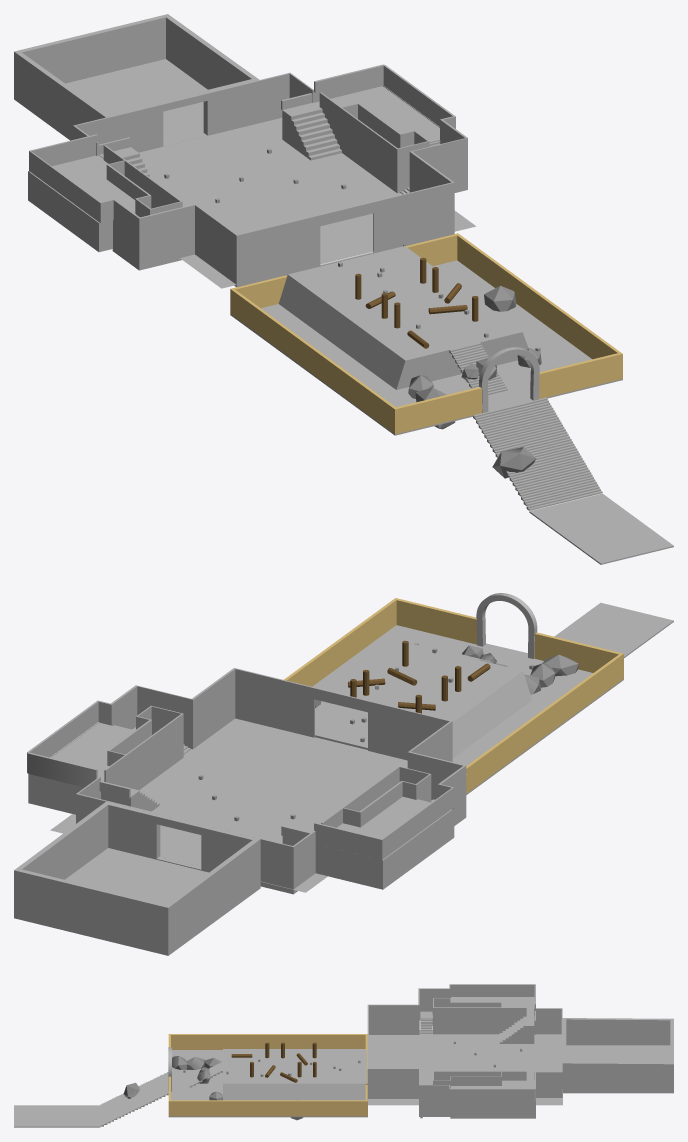
Rendered from lvl3_blockout.fbx.
The picture shows the model from 3 angles, top to bottom: view 1: azimuth 30°, elevation 25°; view 2: azimuth 150°, elevation 25°; view 3: azimuth 270°, elevation 25°; orthographic projection. The views are drawn at different scales.
Visible parts, largest first — view 1: Walls_Second_Area, Floor, Last_Room, Floor_Second_Area_Up, Walls_First_Area, Walls, Stairs, Floor_Second_Area, Floor_First_Area, Floor_L, Floor_R, Stair_1 (+2 smaller); view 2: Last_Room, Walls_Second_Area, Floor, Floor_Second_Area_Up, Walls_First_Area, Walls, Floor_Second_Area, Floor_L, Floor_R, Floor_First_Area, Arch, Stair_1; view 3: Last_Room, Floor, Walls_Second_Area, Floor_Second_Area_Up, Walls_First_Area, Walls, Floor_Second_Area, Stairs, Floor_First_Area, Floor_R, Floor_L, Stair_2.
Part boxes in pixels (x1,y1,x2,y2): Walls_Second_Area: (29,64,467,287); Floor: (139,118,476,288); Last_Room: (14,14,259,145); Floor_Second_Area_Up: (278,246,528,389); Walls_First_Area: (230,233,622,434); Walls: (73,72,429,217); Stairs: (400,141,602,510); Floor_Second_Area: (230,260,622,435); Floor_First_Area: (529,493,673,564); Floor_L: (28,155,135,252); Floor_R: (315,86,440,148); Stair_1: (282,102,341,160); Last_Room: (14,801,260,955); Walls_Second_Area: (27,668,466,859); Floor: (50,718,466,892); Floor_Second_Area_Up: (315,643,531,758); Walls_First_Area: (284,598,623,793); Walls: (76,705,431,894); Floor_Second_Area: (312,625,623,794); Floor_L: (315,796,454,889); Floor_R: (28,722,134,814); Floor_First_Area: (554,602,673,657); Arch: (476,593,537,659); Stair_1: (101,788,159,811); Last_Room: (562,1018,673,1093); Floor: (368,1030,562,1105); Walls_Second_Area: (367,984,535,1116); Floor_Second_Area_Up: (223,1049,365,1100); Walls_First_Area: (168,1034,367,1116); Walls: (433,998,562,1097); Floor_Second_Area: (168,1050,367,1117); Stairs: (100,1011,432,1126); Floor_First_Area: (14,1105,100,1127); Floor_R: (450,1080,535,1118); Floor_L: (450,997,535,1034); Stair_2: (499,1016,534,1043).
Size of the model in its own units: 115 by 41.33 by 305.
